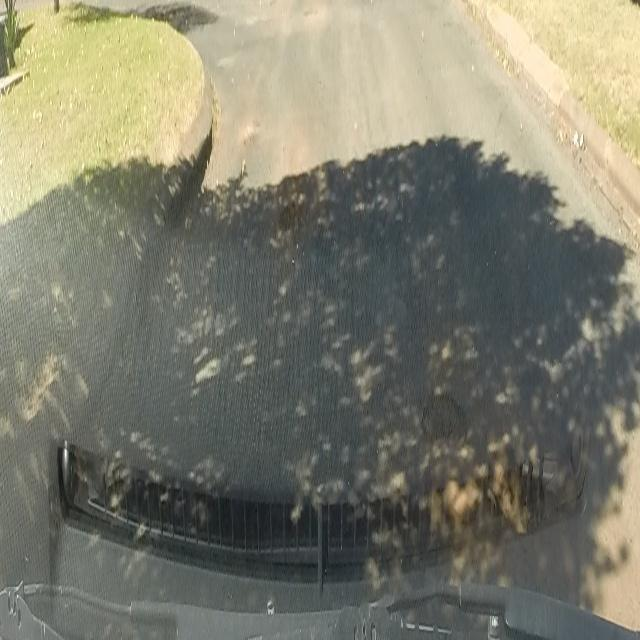pothole: (416, 389, 472, 451)
